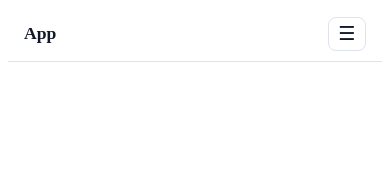
Menu / Header / Footer › toggles the mobile navigation
Step 1. Click the button named "Toggle navigation" → (347, 34), box left=328, top=17, right=366, bottom=51
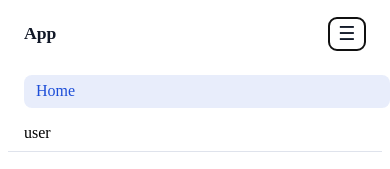
Expected: the button named "Toggle navigation" is expanded, left=328, top=17, right=366, bottom=51
